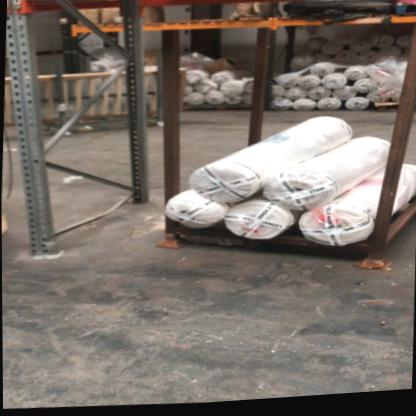vertical_damage: (28, 226, 68, 263)
